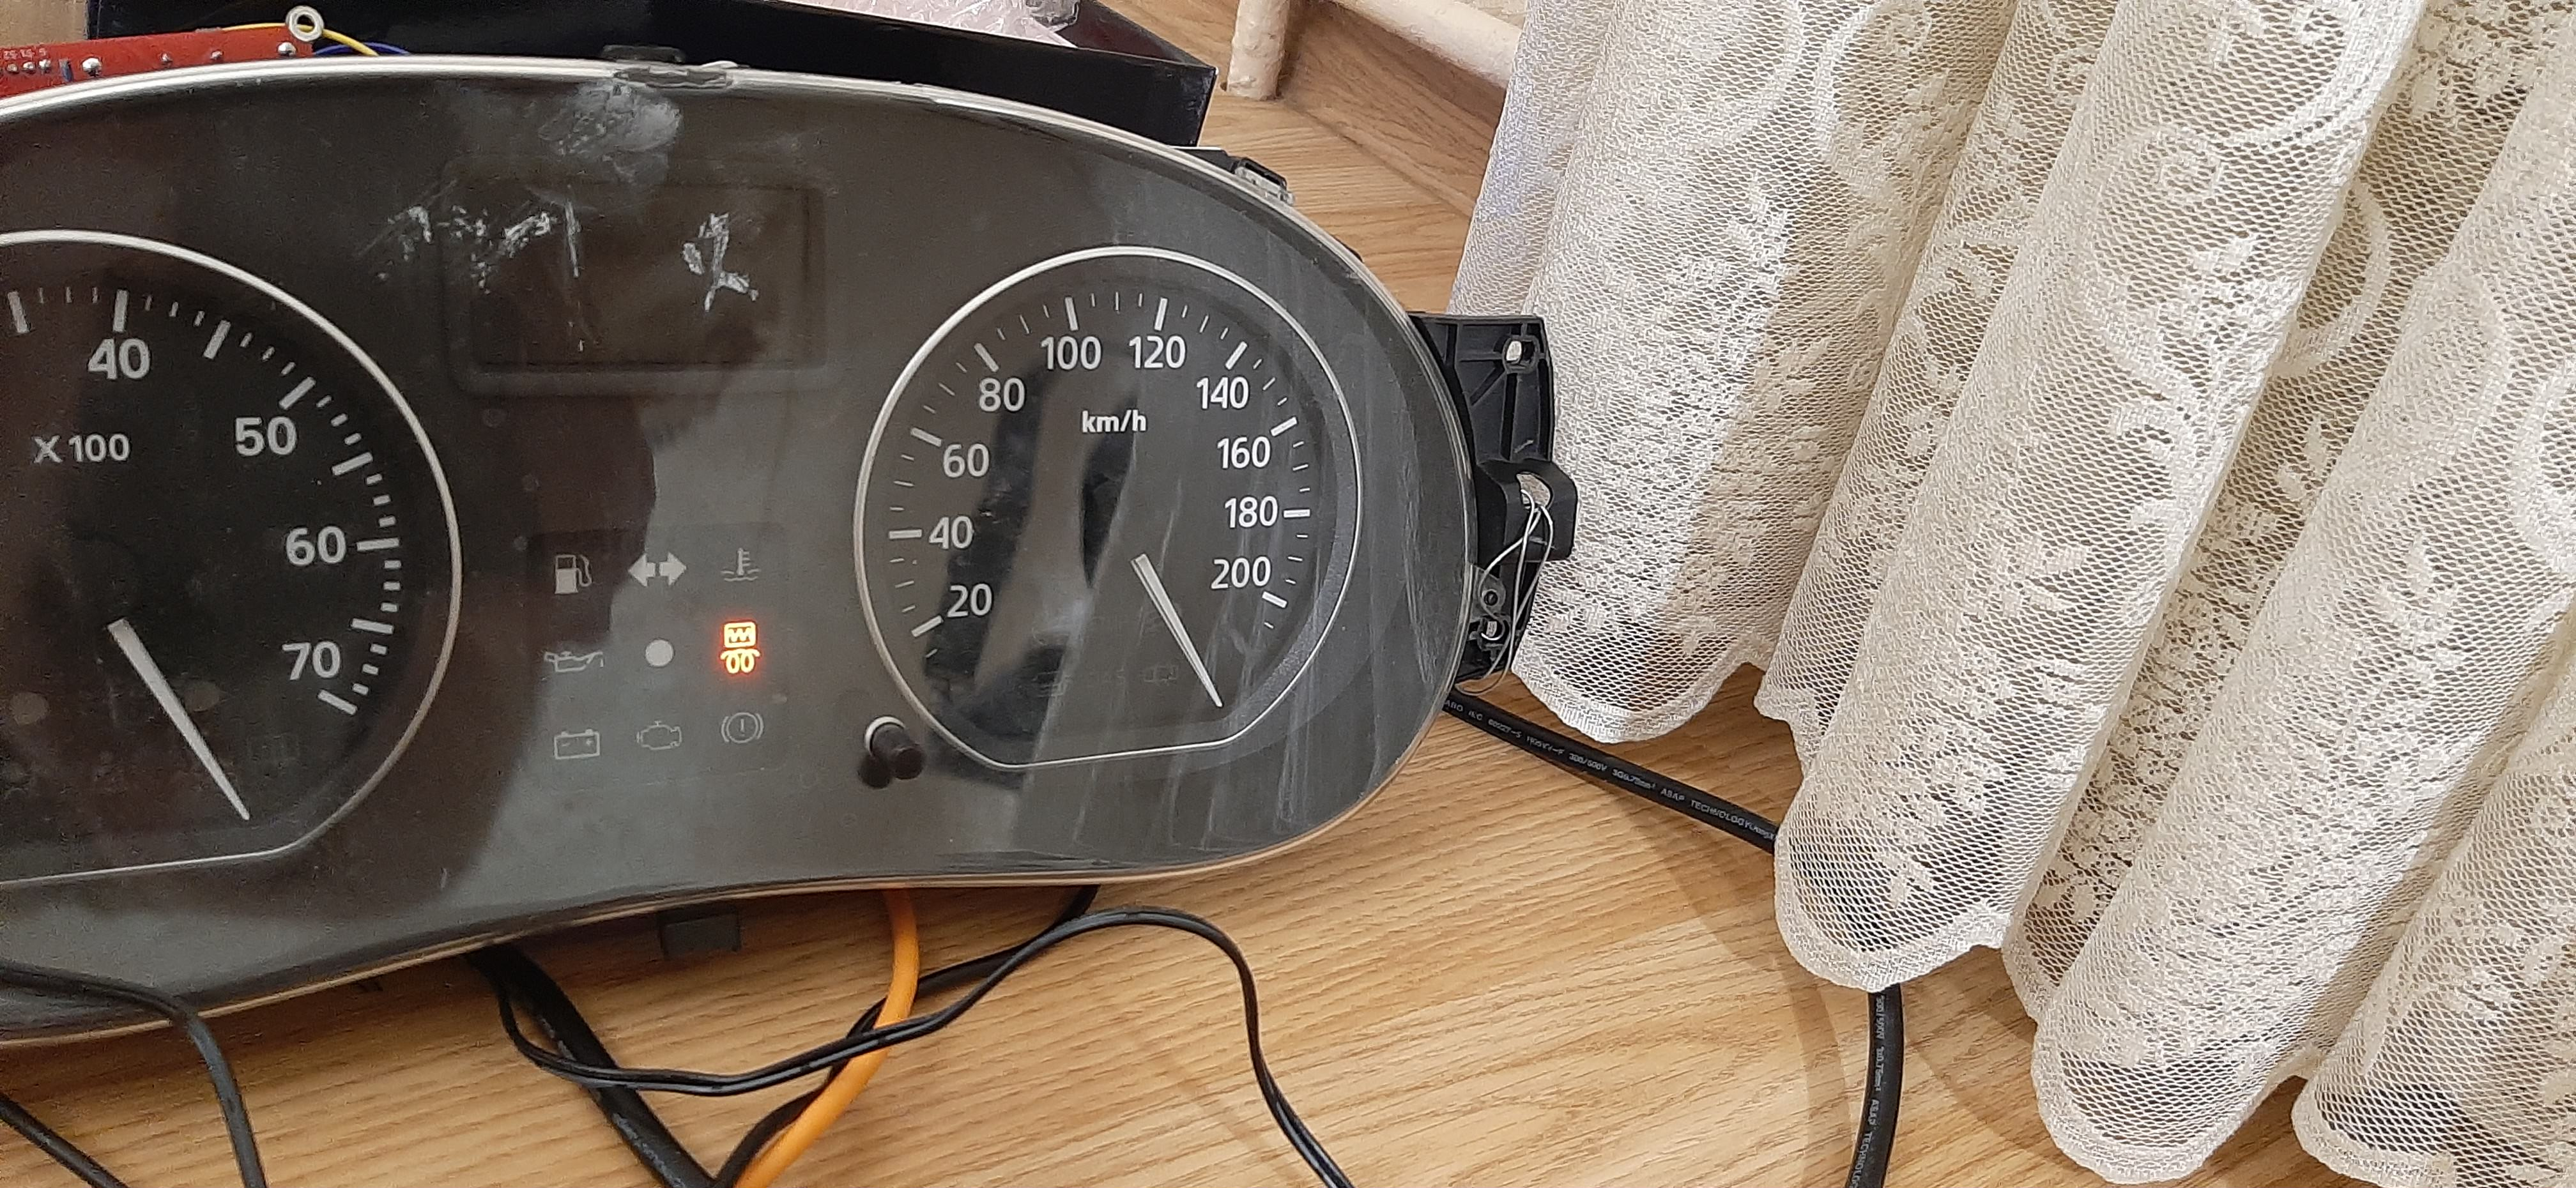diesel16: (720, 621, 762, 677)
